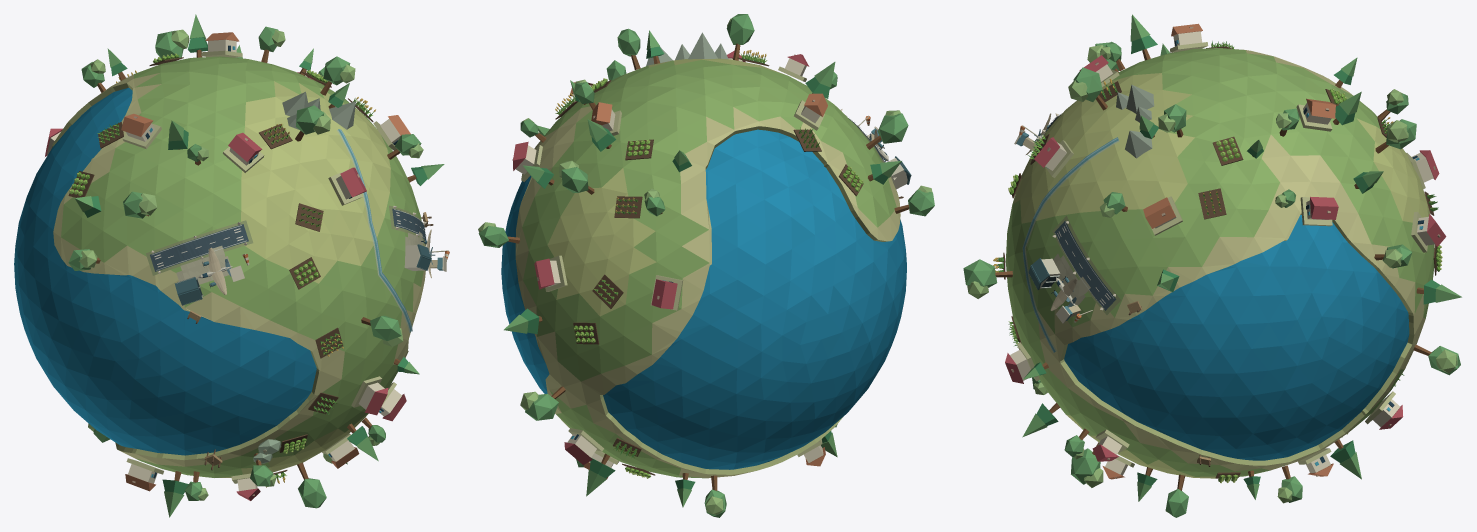
Rendered from earth.glb.
3 renders of one model, left to right at view 1: azimuth 30°, elevation 25°; view 2: azimuth 150°, elevation 25°; view 3: azimuth 270°, elevation 25°, orthographic. The views are drawn at different scales.
Visible parts, largest first — view 1: Terrain • modeled surfaces, Structures • modeled surfaces, Activity_regional-plane_stops • modeled surfaces; view 2: Terrain • modeled surfaces, Structures • modeled surfaces, Activity_regional-plane_stops • modeled surfaces; view 3: Terrain • modeled surfaces, Structures • modeled surfaces, Activity_regional-plane_stops • modeled surfaces.
Boxes of the visible parts, x1,y1,x2,y2 form: Terrain • modeled surfaces: [14, 56, 425, 477]; Structures • modeled surfaces: [45, 14, 444, 517]; Activity_regional-plane_stops • modeled surfaces: [146, 205, 449, 305]; Terrain • modeled surfaces: [501, 58, 906, 478]; Structures • modeled surfaces: [478, 14, 934, 517]; Activity_regional-plane_stops • modeled surfaces: [840, 109, 911, 189]; Terrain • modeled surfaces: [1005, 48, 1434, 478]; Structures • modeled surfaces: [963, 14, 1461, 517]; Activity_regional-plane_stops • modeled surfaces: [1014, 113, 1120, 323].
Size of the model in its own units: 2.17 by 2.17 by 2.36.
